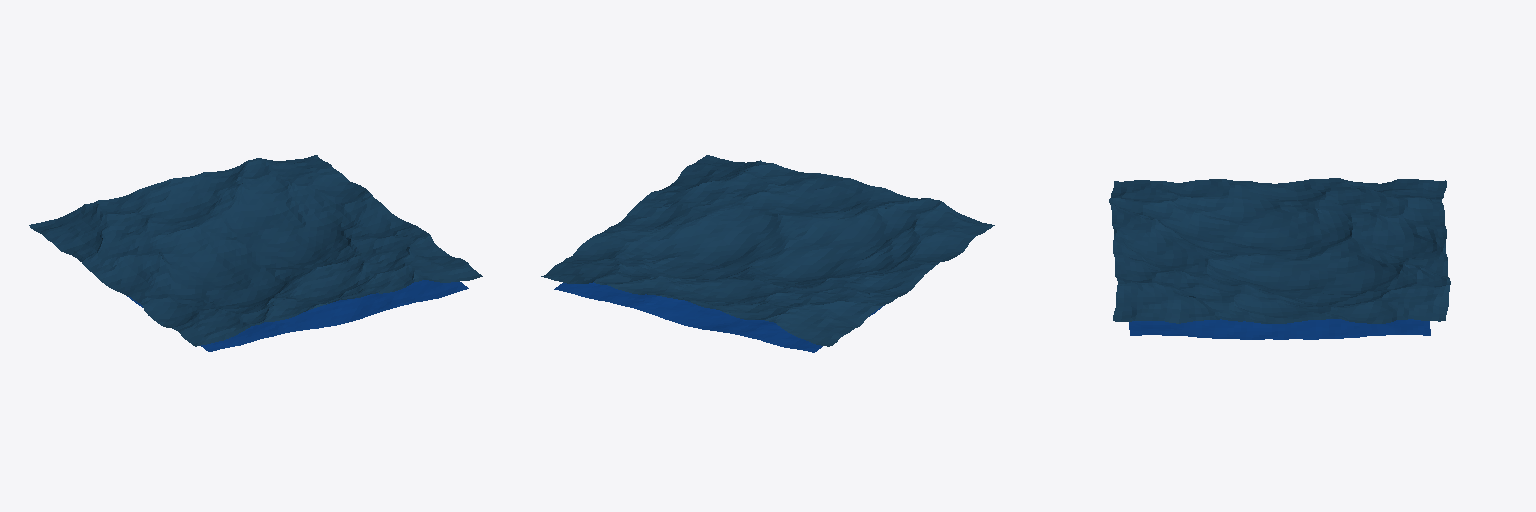
Rendered from water.obj.
3 views of the same model, side by side, from view 1: azimuth 30°, elevation 25°; view 2: azimuth 150°, elevation 25°; view 3: azimuth 270°, elevation 25° (orthographic).
Visible parts, largest first — view 1: Plane, Plane.001; view 2: Plane, Plane.001; view 3: Plane, Plane.001.
Part boxes in pixels (x1,y1,x2,y2): Plane: (29, 155, 482, 346); Plane.001: (127, 280, 468, 351); Plane: (541, 155, 994, 346); Plane.001: (554, 282, 884, 352); Plane: (1109, 178, 1450, 323); Plane.001: (1129, 319, 1430, 339).
Size of the model in its own units: 29.88 by 3.22 by 30.2.